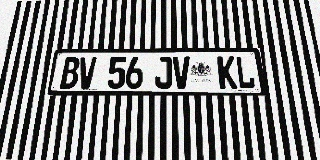5: (108, 57, 126, 89)
6: (125, 57, 143, 89)
B: (60, 57, 80, 89)
J: (155, 57, 172, 89)
K: (217, 56, 237, 89)
L: (235, 56, 256, 89)
V: (77, 57, 97, 89), (173, 57, 190, 89)
